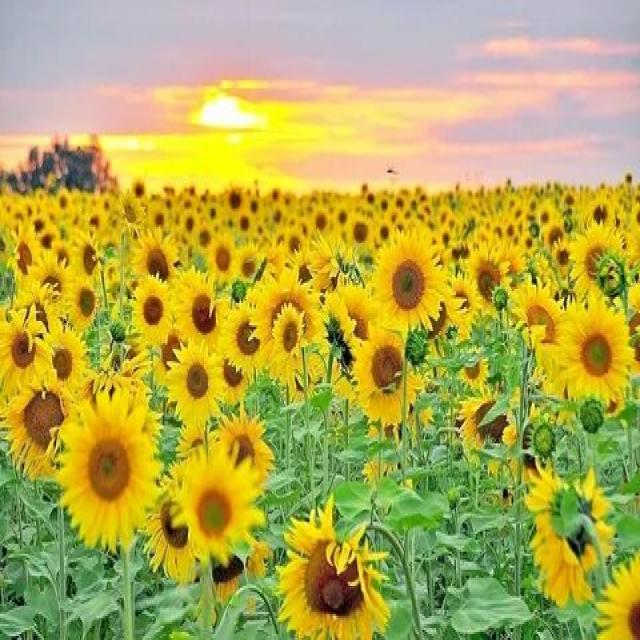sunflower: (54, 387, 170, 548), (55, 387, 160, 550), (281, 495, 390, 640), (520, 460, 616, 602), (171, 435, 265, 562), (366, 223, 450, 347), (560, 285, 636, 415), (352, 324, 412, 431), (163, 333, 225, 427), (1, 305, 54, 401), (123, 271, 180, 349), (459, 235, 512, 317), (132, 225, 185, 301), (268, 299, 309, 363), (68, 229, 107, 289)
